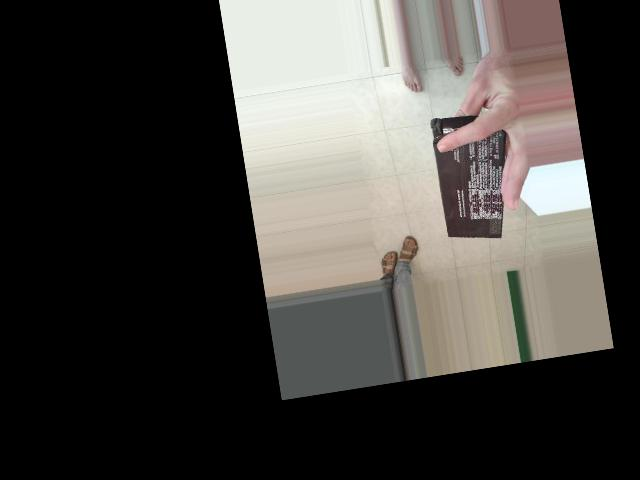chocolate: (359, 129, 503, 222)
